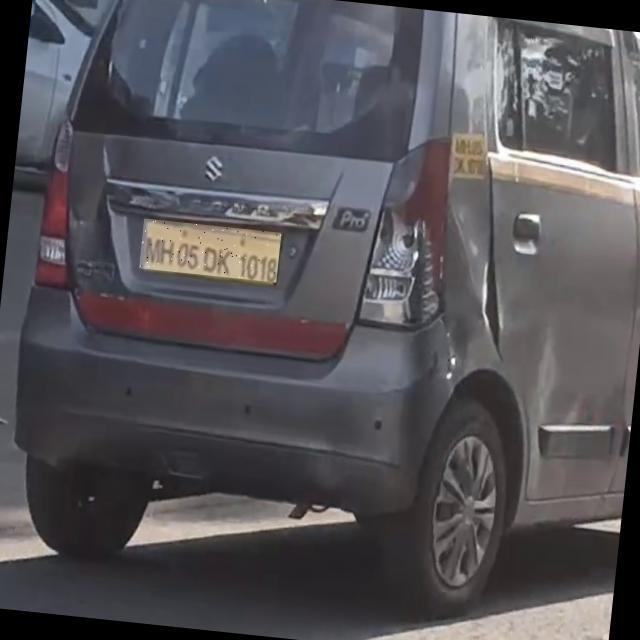Plate: (140, 219, 282, 283)
